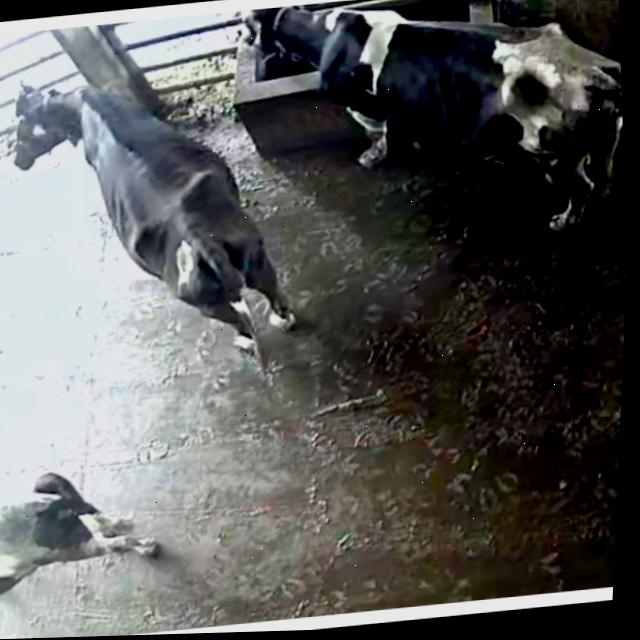drink: (213, 0, 376, 121)
